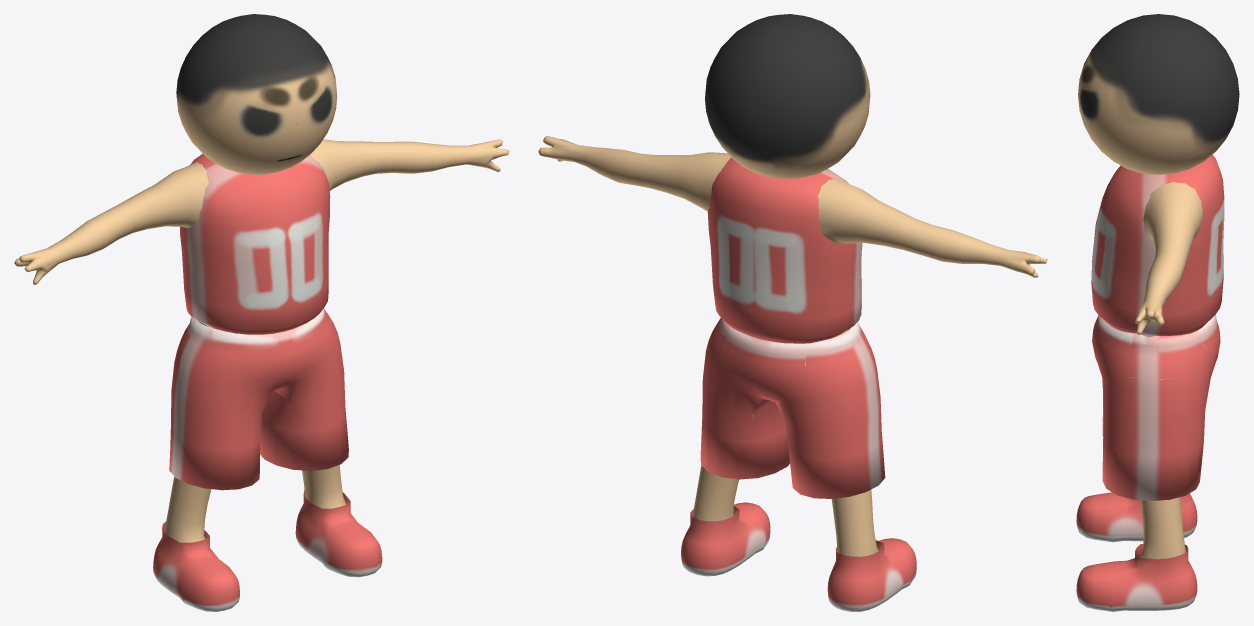
Rendered from character_basketball uniform.fbx.
The picture shows the model from 3 angles, left to right: view 1: azimuth 30°, elevation 25°; view 2: azimuth 150°, elevation 25°; view 3: azimuth 270°, elevation 25°; orthographic projection. The views are drawn at different scales.
Visible parts, largest first — view 1: BODY.022, HEAD.021; view 2: BODY.022, HEAD.021; view 3: BODY.022, HEAD.021.
Part boxes in pixels (x1=…): BODY.022: x1=14, y1=139, x2=509, y2=611; HEAD.021: x1=176, y1=14, x2=337, y2=174; BODY.022: x1=538, y1=136, x2=1047, y2=611; HEAD.021: x1=705, y1=14, x2=870, y2=178; BODY.022: x1=1076, y1=154, x2=1224, y2=611; HEAD.021: x1=1078, y1=14, x2=1239, y2=174.
Size of the model in its own units: 377 by 407 by 110.
